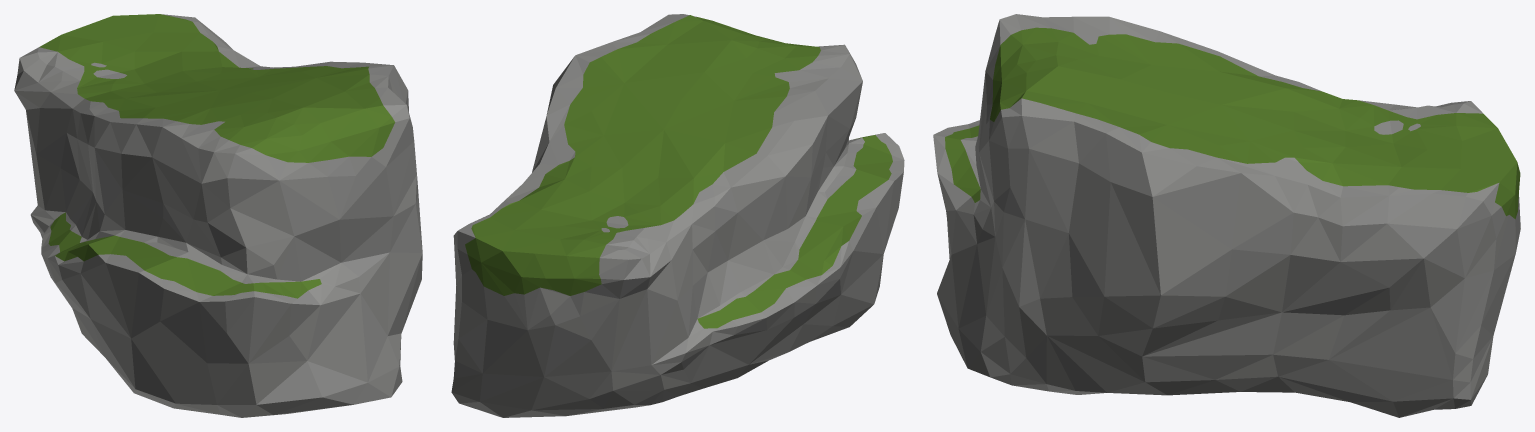
File: Cavern_FloorGrass_Narrow_Ramp_Sml-01.fbx
The picture shows the model from 3 angles, left to right: view 1: azimuth 30°, elevation 25°; view 2: azimuth 150°, elevation 25°; view 3: azimuth 270°, elevation 25°; orthographic projection. The views are drawn at different scales.
Visible parts, largest first — view 1: Cavern_FloorGrass_Narrow_Ramp_Sml-01; view 2: Cavern_FloorGrass_Narrow_Ramp_Sml-01; view 3: Cavern_FloorGrass_Narrow_Ramp_Sml-01.
Part boxes in pixels (box(x1,y1,x2,y2)): Cavern_FloorGrass_Narrow_Ramp_Sml-01: box(14, 14, 422, 417); Cavern_FloorGrass_Narrow_Ramp_Sml-01: box(451, 14, 904, 417); Cavern_FloorGrass_Narrow_Ramp_Sml-01: box(933, 14, 1520, 417).
Bounding box in the file's own units: 760 × 637 × 1092.
1 material, 1 textured.
